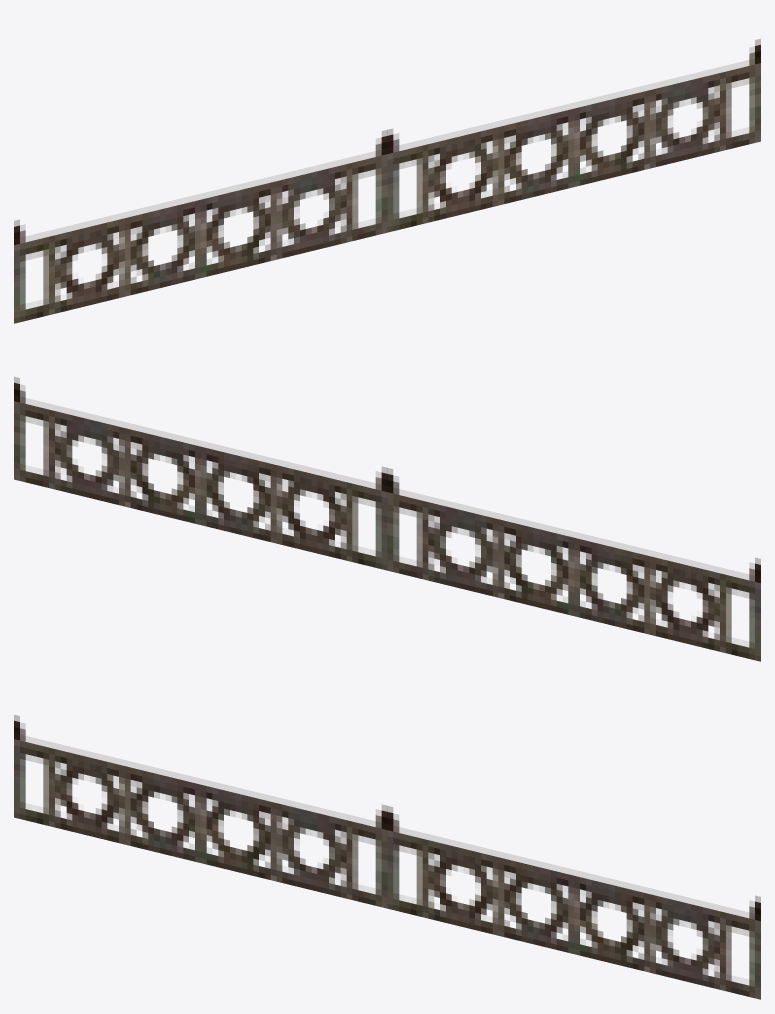
Rendered from fence-top.glb.
3 renders of one model, top to bottom at view 1: azimuth 30°, elevation 25°; view 2: azimuth 150°, elevation 25°; view 3: azimuth 330°, elevation 25°, orthographic.
Visible parts, largest first — view 1: fence-top; view 2: fence-top; view 3: fence-top.
Boxes of the visible parts, x1=… form: fence-top: x1=14, y1=39, x2=760, y2=323; fence-top: x1=14, y1=377, x2=760, y2=661; fence-top: x1=14, y1=715, x2=760, y2=999.
Size of the model in its own units: 1 by 0.163 by 0.
Materials: 1 (1 with a texture image).
